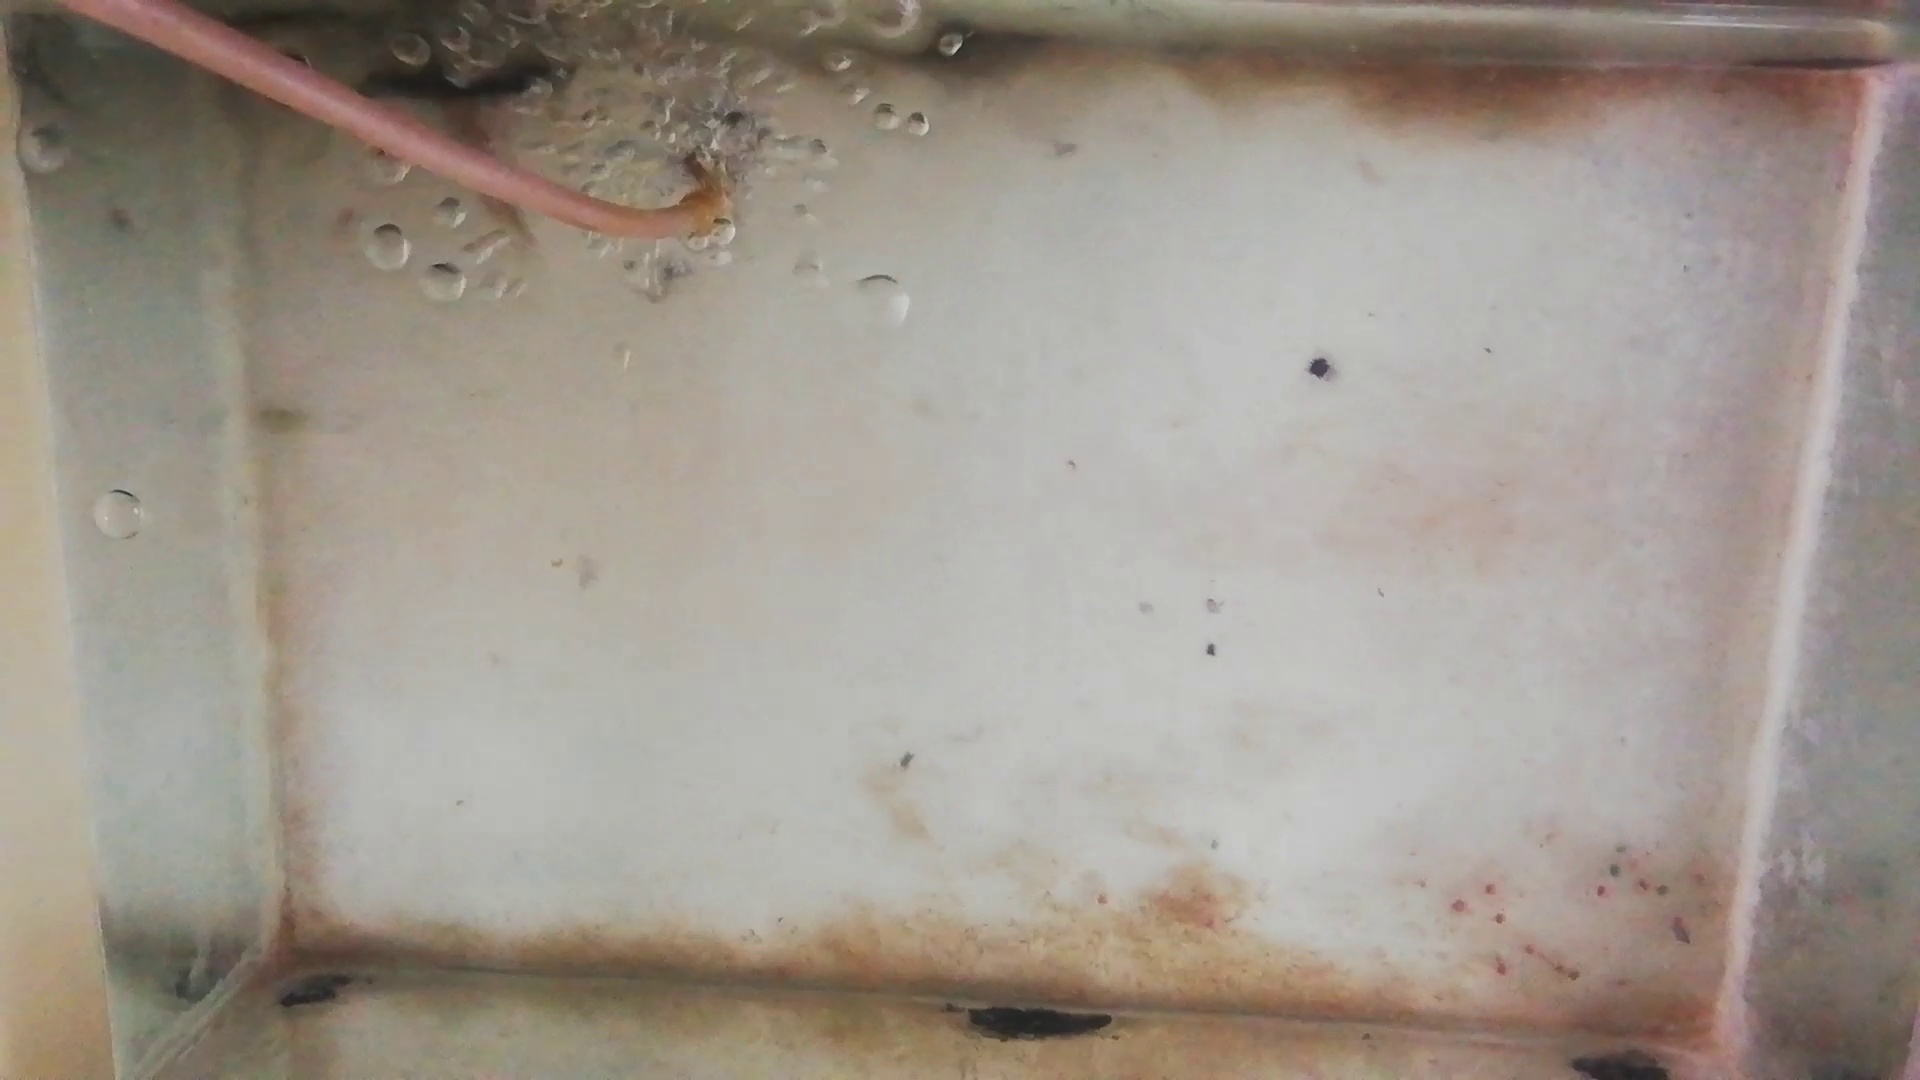fish: (360, 50, 568, 105), (444, 103, 531, 233)
